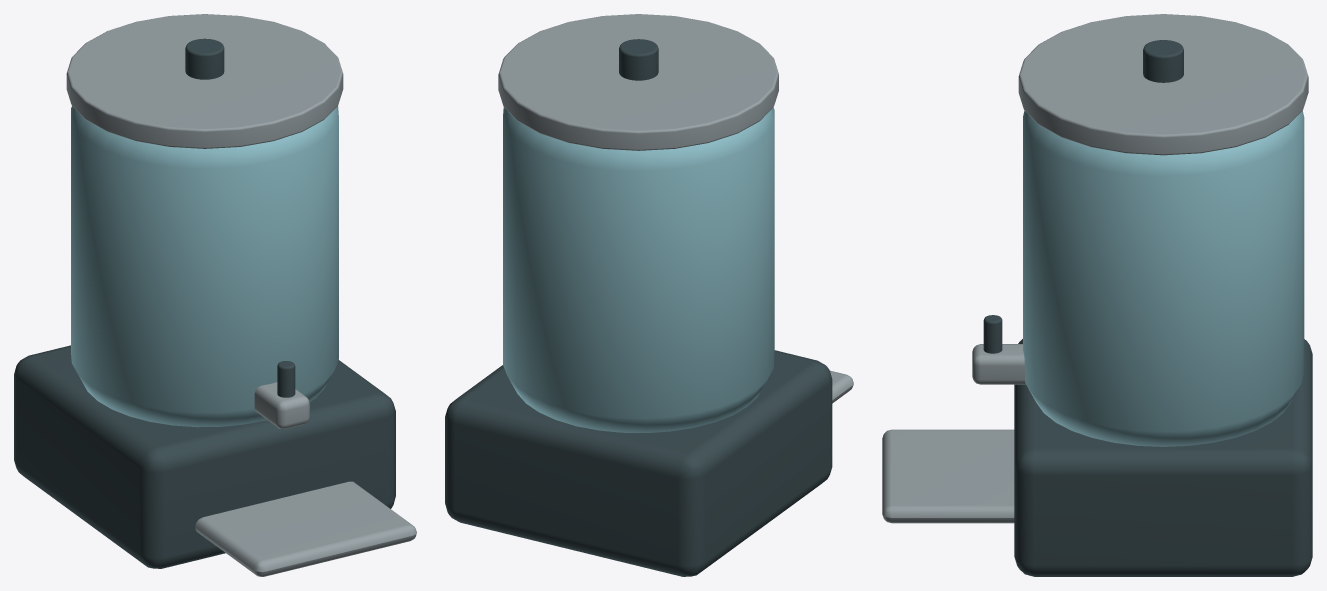
File: HotelTogether-DrinkDispenser.glb
The picture shows the model from 3 angles, left to right: view 1: azimuth 30°, elevation 25°; view 2: azimuth 150°, elevation 25°; view 3: azimuth 270°, elevation 25°; orthographic projection. The views are drawn at different scales.
Visible parts, largest first — view 1: Drink_Container, Drink_Base, Drink_Lid, Drink_DripTray, Drink_Tap, Drink_LidKnob, Drink_TapLever; view 2: Drink_Container, Drink_Base, Drink_Lid, Drink_LidKnob; view 3: Drink_Container, Drink_Base, Drink_Lid, Drink_DripTray, Drink_Tap, Drink_LidKnob, Drink_TapLever.
Part boxes in pixels (box(x1,y1,x2,y2)): Drink_Container: box(71, 106, 338, 427); Drink_Base: box(14, 345, 395, 568); Drink_Lid: box(66, 14, 343, 148); Drink_DripTray: box(195, 481, 416, 576); Drink_Tap: box(254, 382, 309, 429); Drink_LidKnob: box(185, 38, 224, 79); Drink_TapLever: box(277, 361, 295, 397); Drink_Container: box(503, 107, 774, 432); Drink_Base: box(445, 350, 832, 576); Drink_Lid: box(498, 14, 778, 150); Drink_LidKnob: box(619, 39, 658, 80); Drink_Container: box(1023, 110, 1304, 446); Drink_Base: box(1014, 339, 1312, 576); Drink_Lid: box(1018, 14, 1308, 155); Drink_DripTray: box(882, 429, 1014, 523); Drink_Tap: box(972, 344, 1025, 384); Drink_LidKnob: box(1143, 40, 1183, 82); Drink_TapLever: box(983, 315, 1002, 353).
Size of the model in its own units: 0.36 by 0.61 by 0.505.
